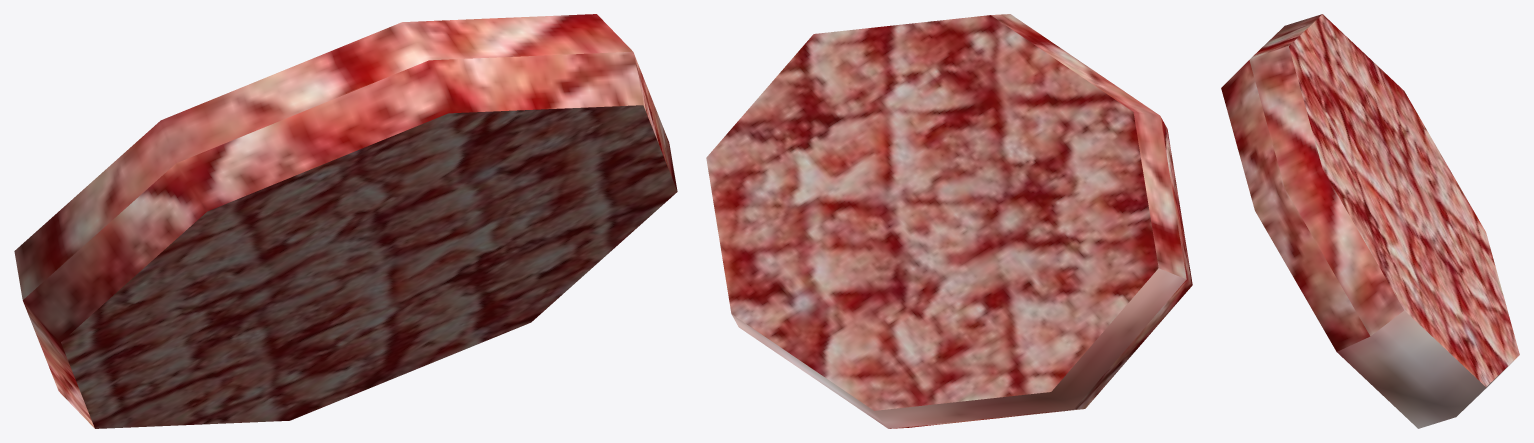
Rendered from burger_uncooked.fbx.
3 renders of one model, left to right at view 1: azimuth 30°, elevation 25°; view 2: azimuth 150°, elevation 25°; view 3: azimuth 270°, elevation 25°, orthographic. The views are drawn at different scales.
Parts seen in each view (by area): view 1: Steak_Cooked; view 2: Steak_Cooked; view 3: Steak_Cooked.
Part boxes in pixels (x1,y1,x2,y2): Steak_Cooked: (14,14,677,428); Steak_Cooked: (706,14,1192,428); Steak_Cooked: (1221,14,1519,428).
Size of the model in its own units: 12.18 by 8.65 by 6.69.
